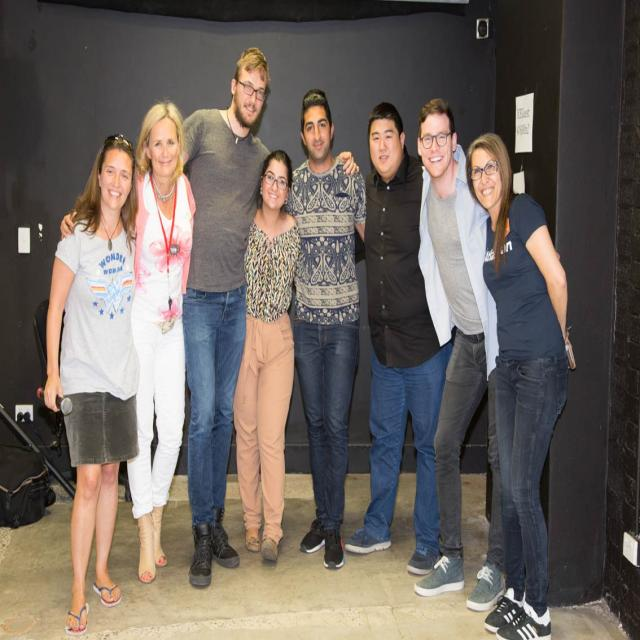body: (176, 42, 363, 591), (462, 123, 579, 639), (40, 130, 142, 638), (344, 98, 451, 582), (412, 96, 508, 613), (278, 82, 370, 573), (125, 101, 196, 585), (232, 147, 305, 567)
